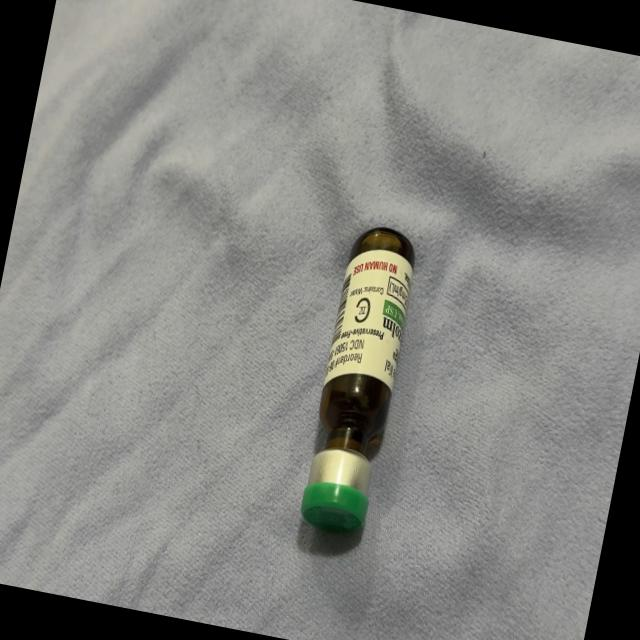midazolm: (298, 226, 422, 533)
